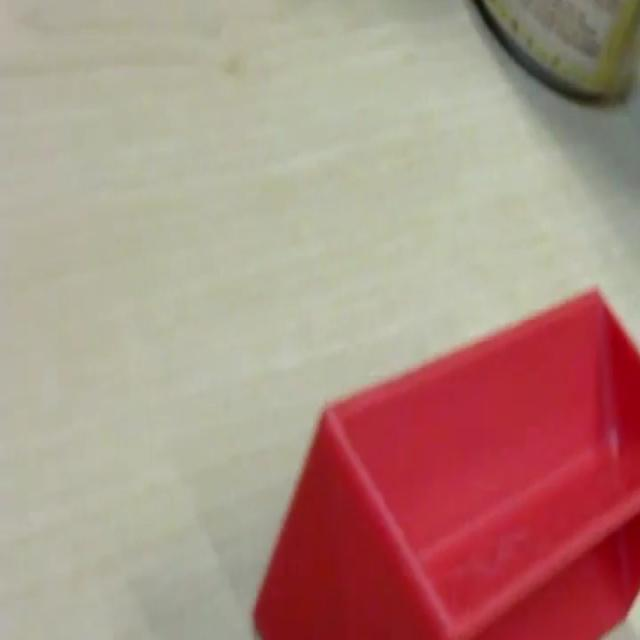red_block: (252, 283, 639, 637)
